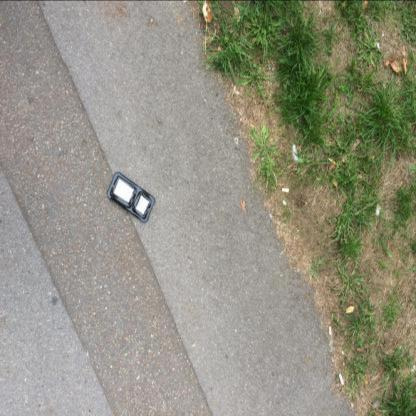Cigarette: (339, 373, 344, 385), (282, 188, 289, 193), (330, 326, 332, 334)
Plastic container: (107, 171, 155, 223)
